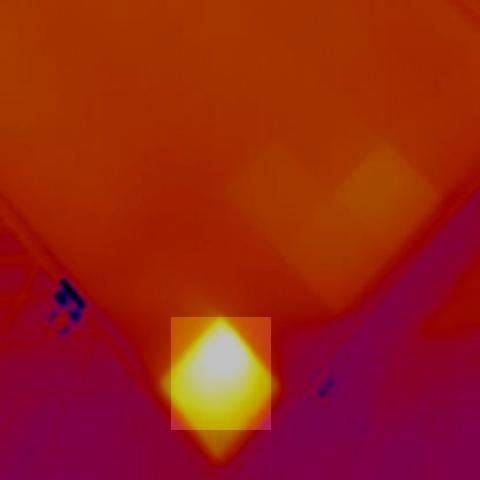fault: (171, 317, 271, 430)
